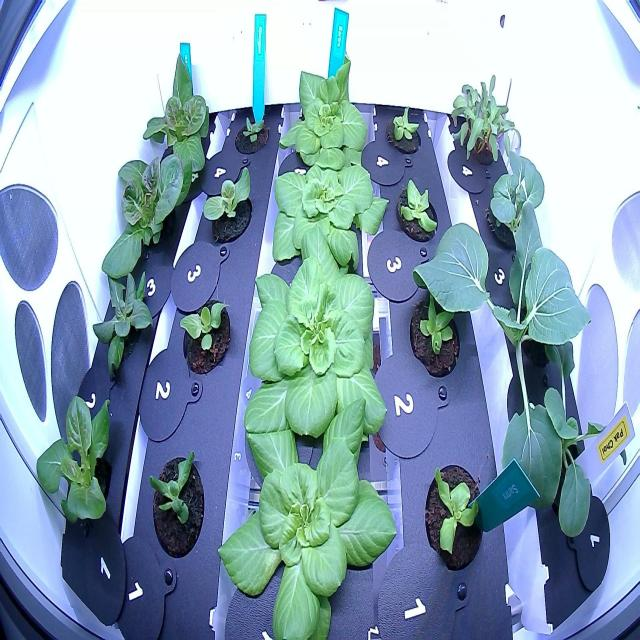young: (211, 391, 401, 640), (237, 219, 396, 467), (265, 131, 395, 283), (97, 132, 190, 298), (28, 381, 120, 538), (274, 46, 378, 178), (138, 48, 216, 188), (417, 452, 489, 578), (88, 261, 159, 385), (144, 440, 208, 569), (174, 285, 236, 385), (403, 283, 463, 385), (198, 154, 258, 254), (390, 170, 442, 252), (227, 101, 273, 168), (386, 100, 428, 160)
